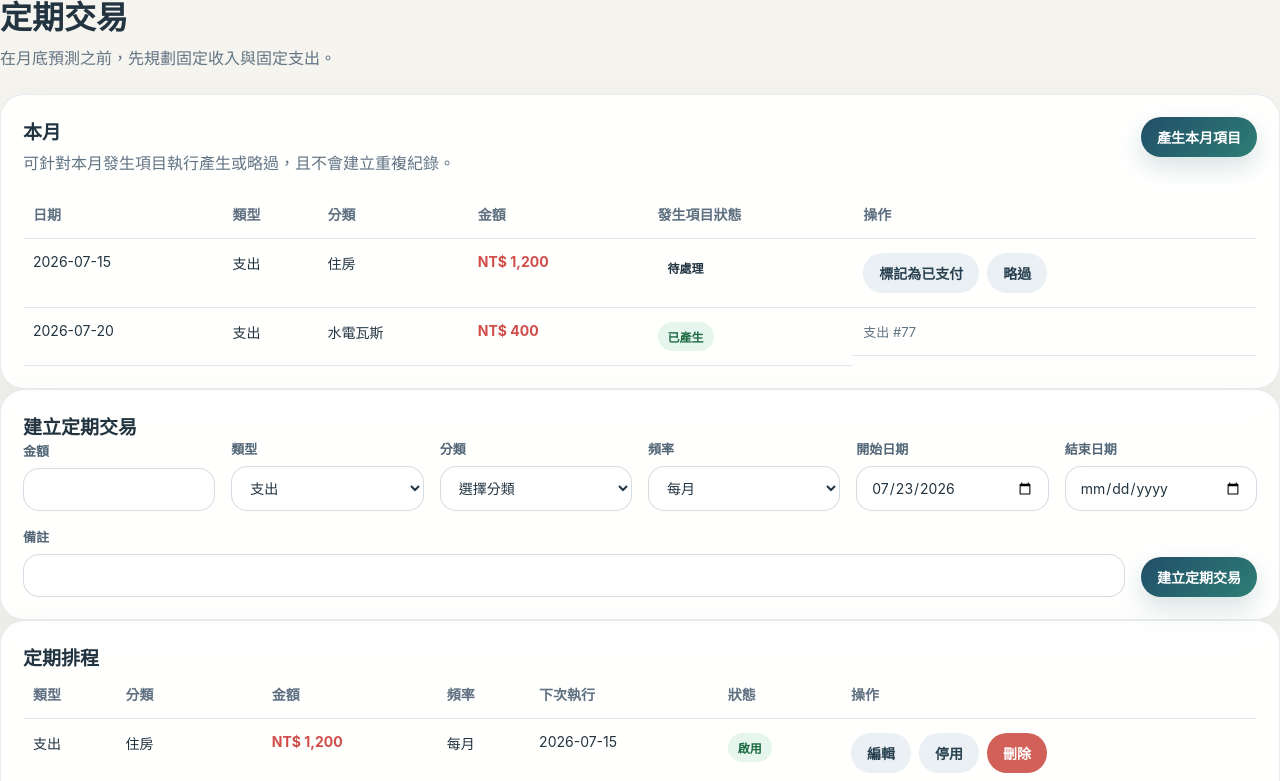
Test case: Recurring transactions page › generates the current month and refreshes dashboard and expenses
Click the button "產生本月項目" at [1199, 137], box [1141,117,1257,157]
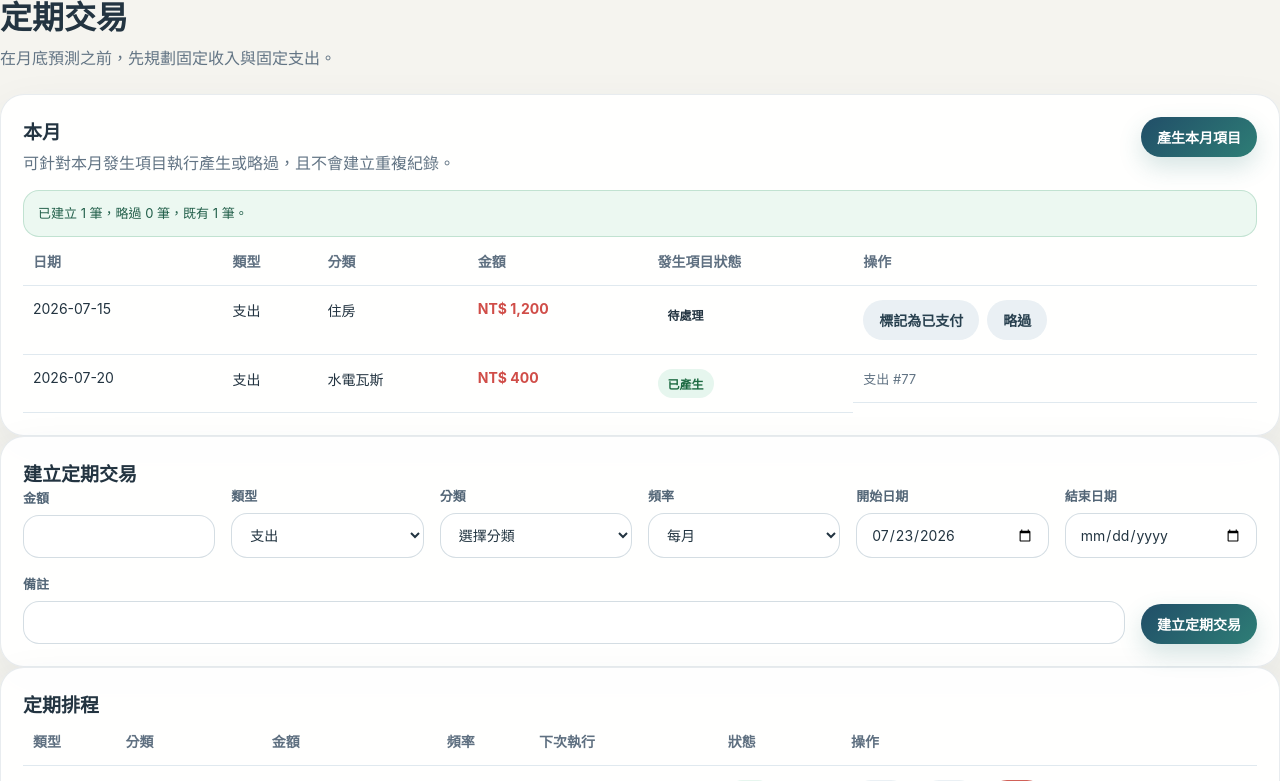
Now the text "已建立 1 筆，略過 0 筆，既有 1 筆。" is shown, box [23,190,1257,237]
